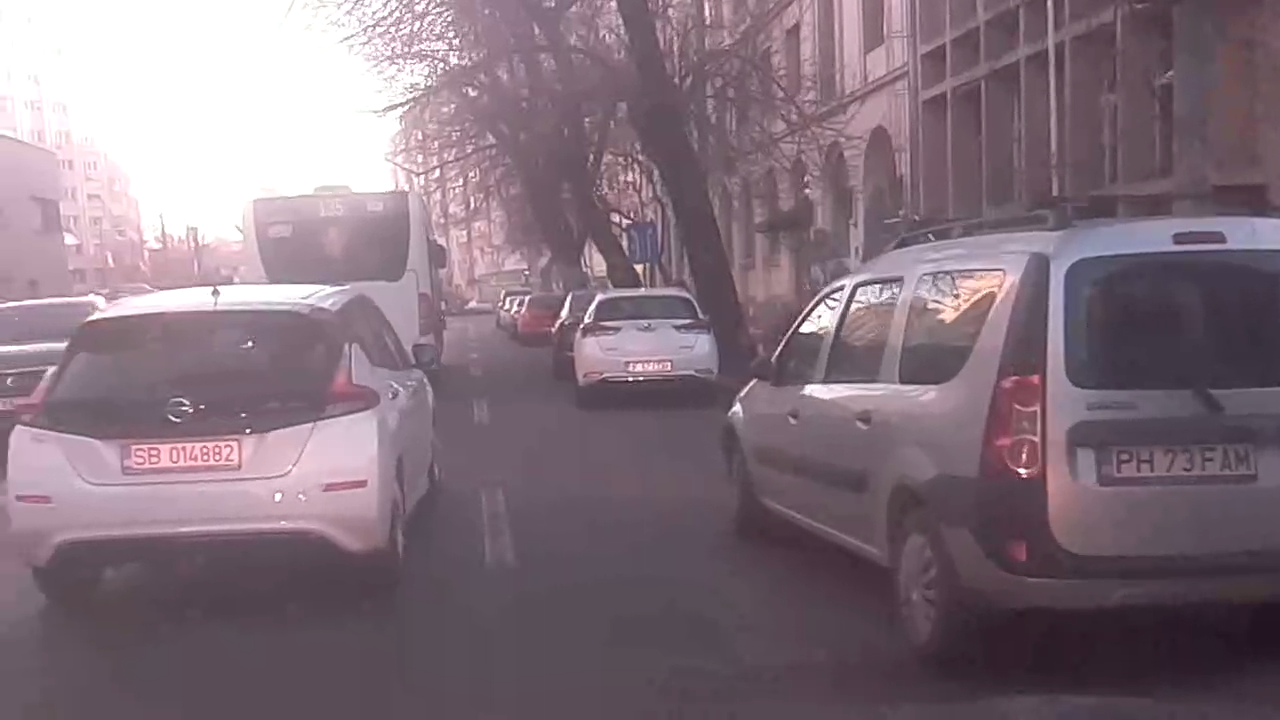license-plate: (1091, 437, 1261, 483), (115, 437, 246, 473)
